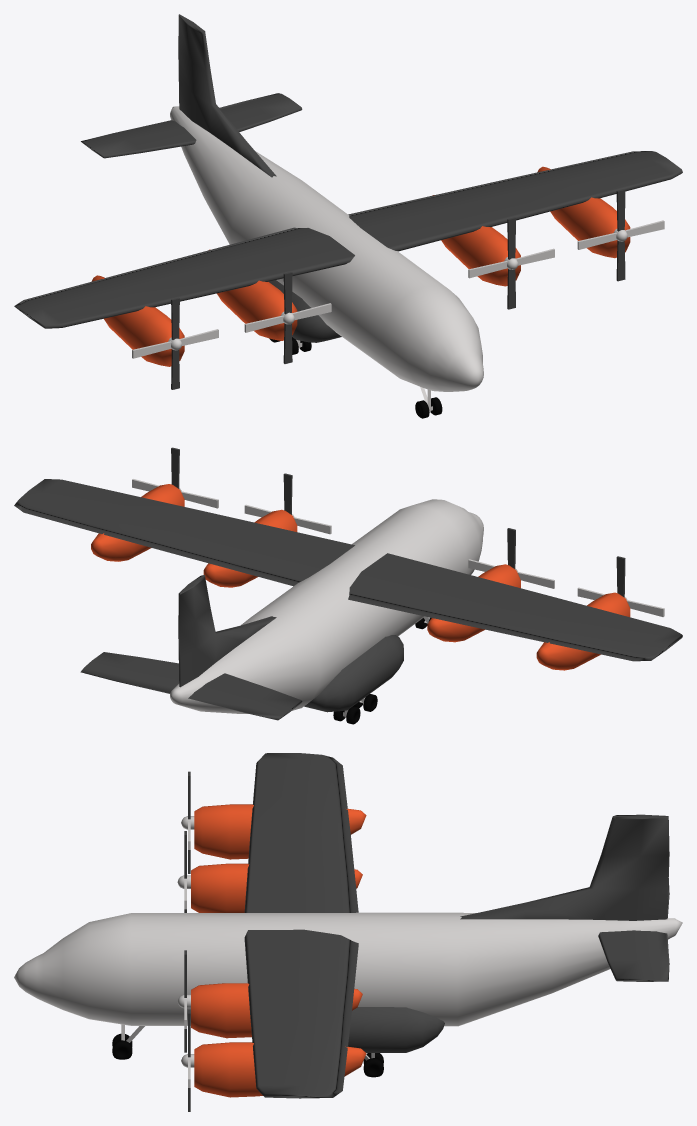
3 views of the same model, one above another, from view 1: azimuth 30°, elevation 25°; view 2: azimuth 150°, elevation 25°; view 3: azimuth 270°, elevation 25° (orthographic). The views are drawn at different scales.
Parts seen in each view (by area): view 1: Plane.006, propeller4.006, propeller3.006, propeller.006, propeller2.006; view 2: Plane.006, propeller4.006, propeller.006, propeller2.006, propeller3.006; view 3: Plane.006.
Boxes of the visible parts, x1,y1,x2,y2 form: Plane.006: (14,14,682,418); propeller4.006: (132,297,218,389); propeller3.006: (244,272,331,363); propeller.006: (577,189,664,281); propeller2.006: (468,217,554,309); Plane.006: (14,479,682,724); propeller4.006: (577,556,664,616); propeller.006: (132,447,218,508); propeller2.006: (244,473,331,534); propeller3.006: (468,528,554,588); Plane.006: (14,753,682,1098).
Bounding box in the file's own units: 374 × 122 × 311.
